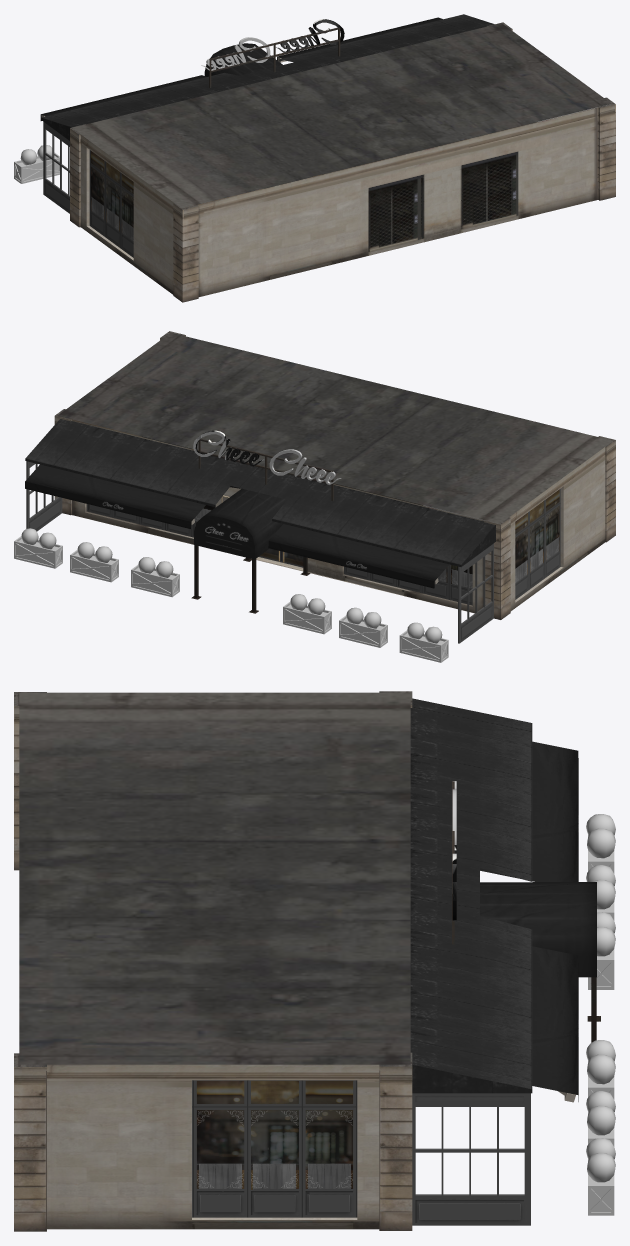
The model's file is hotel 1.fbx.
The picture shows the model from 3 angles, top to bottom: view 1: azimuth 30°, elevation 25°; view 2: azimuth 150°, elevation 25°; view 3: azimuth 270°, elevation 25°; orthographic projection. The views are drawn at different scales.
Parts seen in each view (by area): view 1: model_0_Mesh7, bases; view 2: model_0_Mesh7, bases; view 3: model_0_Mesh7, bases.
Part boxes in pixels (x1,y1,x2,y2): model_0_Mesh7: (40, 14, 615, 302); bases: (14, 145, 59, 183); model_0_Mesh7: (25, 331, 615, 643); bases: (14, 528, 448, 662); model_0_Mesh7: (14, 691, 600, 1231); bases: (586, 814, 615, 1215).
Size of the model in its own units: 16.15 by 4.55 by 10.94.
